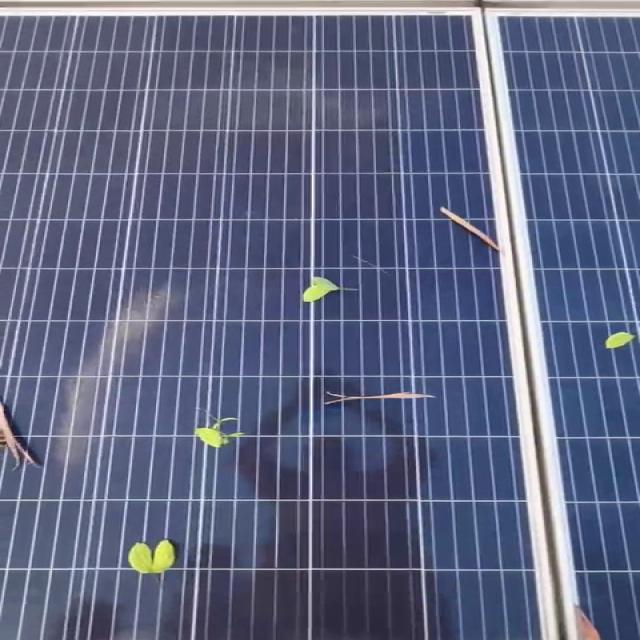dust_partical: (138, 73, 395, 129), (53, 300, 160, 410)
old_leaf: (105, 531, 190, 587), (260, 266, 362, 307), (298, 394, 458, 414), (551, 597, 617, 640), (185, 417, 240, 451), (590, 319, 633, 359)
